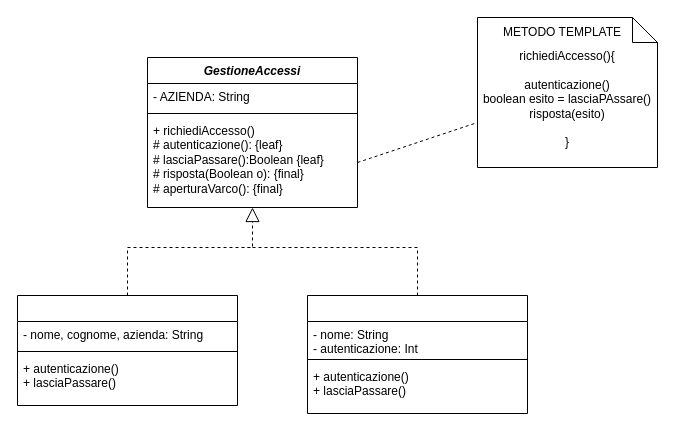
Image size: 675x434. Some labels were removed from this diagram. Here are the shapes that lost their labels. From the top down, the box of each, then its label:
(16, 294, 238, 406): Personale
(306, 294, 528, 414): Tecnico
